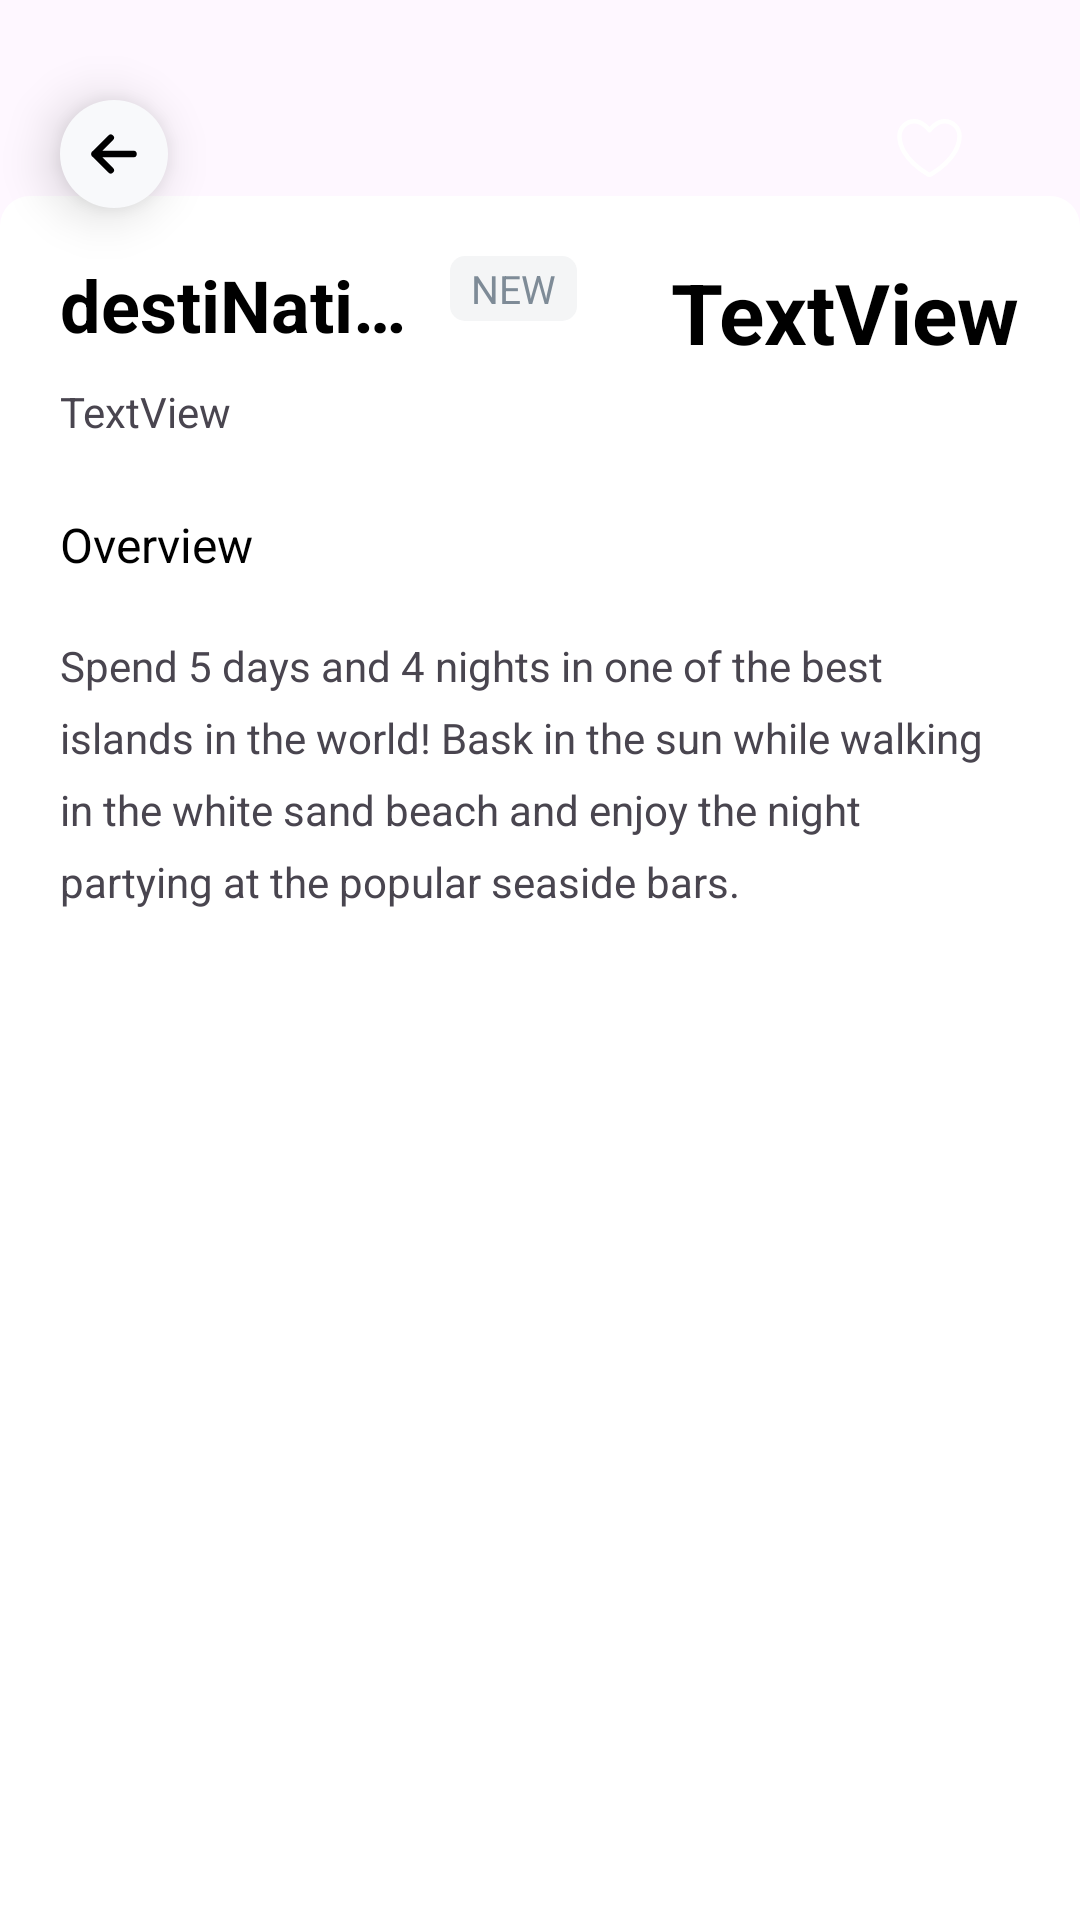

Locate icon controls on the screen. Image size 1080 × 1920, boxes as {"left": x1, "top": y1, "right": x2, "bottom": y2}.
back arrow: {"left": 60, "top": 100, "right": 168, "bottom": 208}
